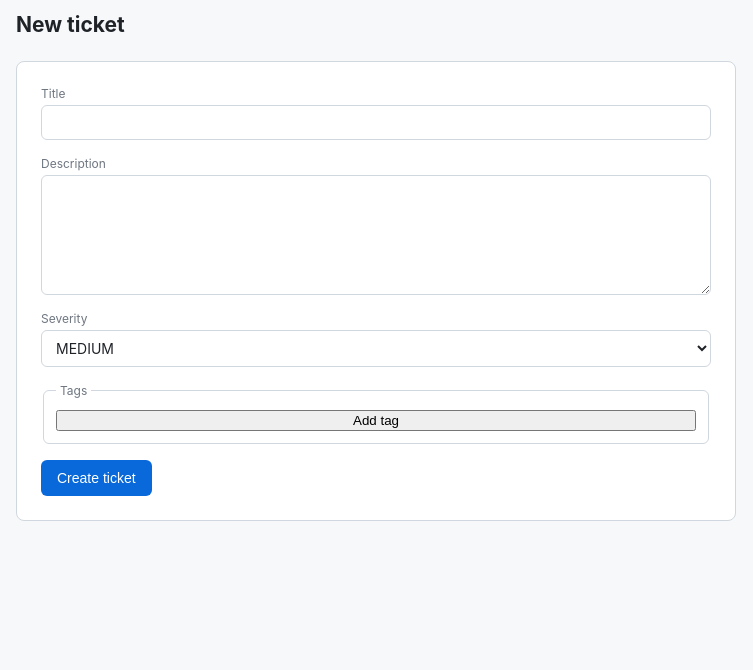
Scenario: NewTicketPage › appends a new tag row when Add tag is clicked and removes the row when its button is clicked
Click the button "Add tag" at (376, 420), box [56,410,696,431]
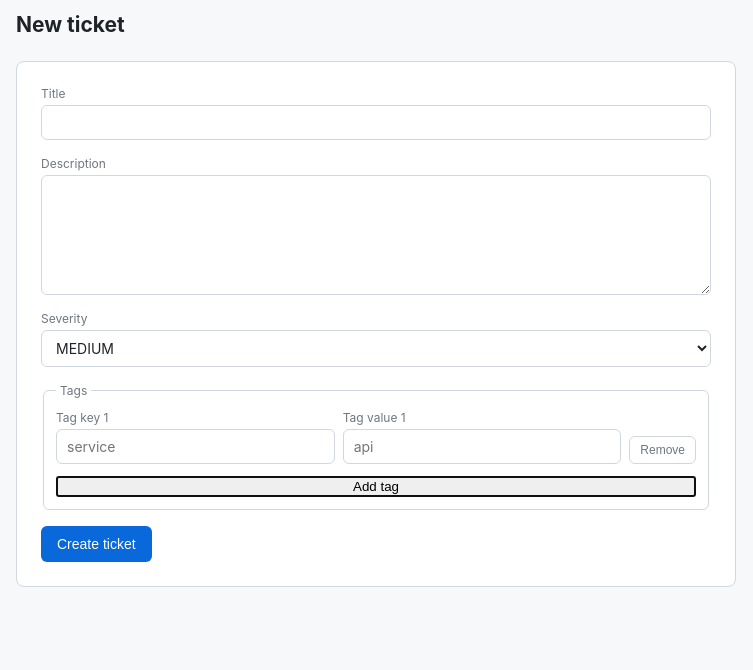
expect the field labelled "Tag key 1" is shown: met, box [56,429,335,464]
expect the field labelled "Tag value 1" is shown: met, box [343,429,621,464]
Click the button "Add tag" at (376, 486), box [56,476,696,497]
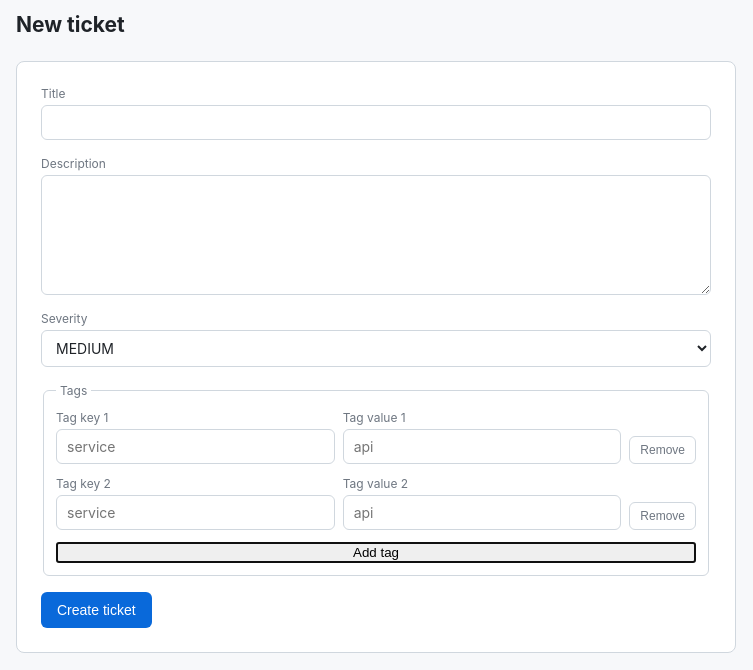
expect the field labelled "Tag key 2" is shown: met, box [56,495,335,530]
expect the field labelled "Tag value 2" is shown: met, box [343,495,621,530]
Click the button with aria-label "Remove tag" at (663, 516), box [629,502,696,530]
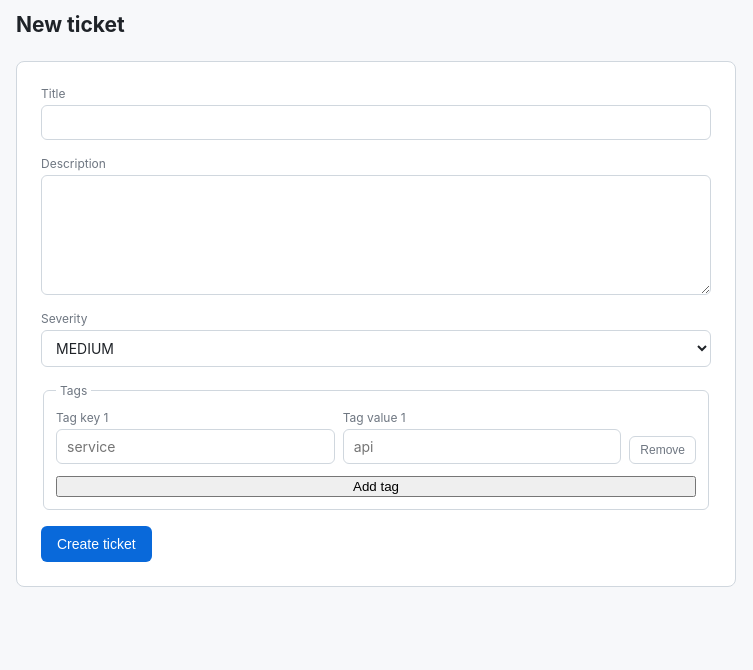
expect the field labelled "Tag key 1" is shown: met, box [56,429,335,464]
expect the label labelled "Tag key 2" is gone: met
